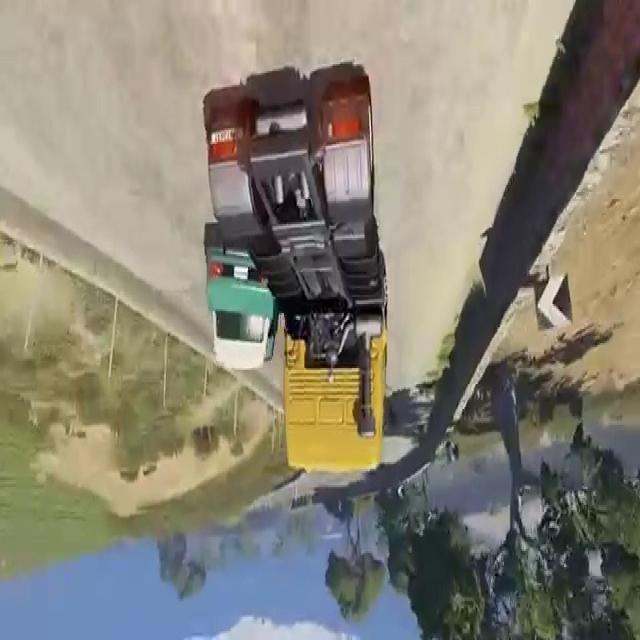moderate: (198, 61, 394, 488)
